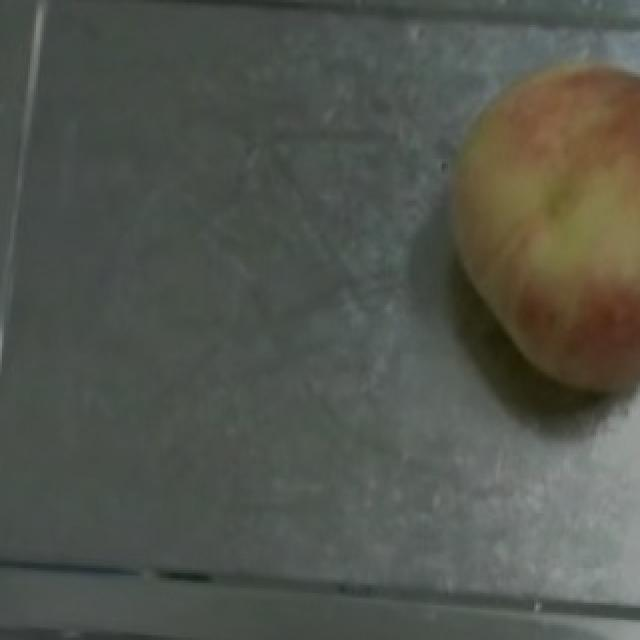Fruit: (424, 45, 640, 367)
